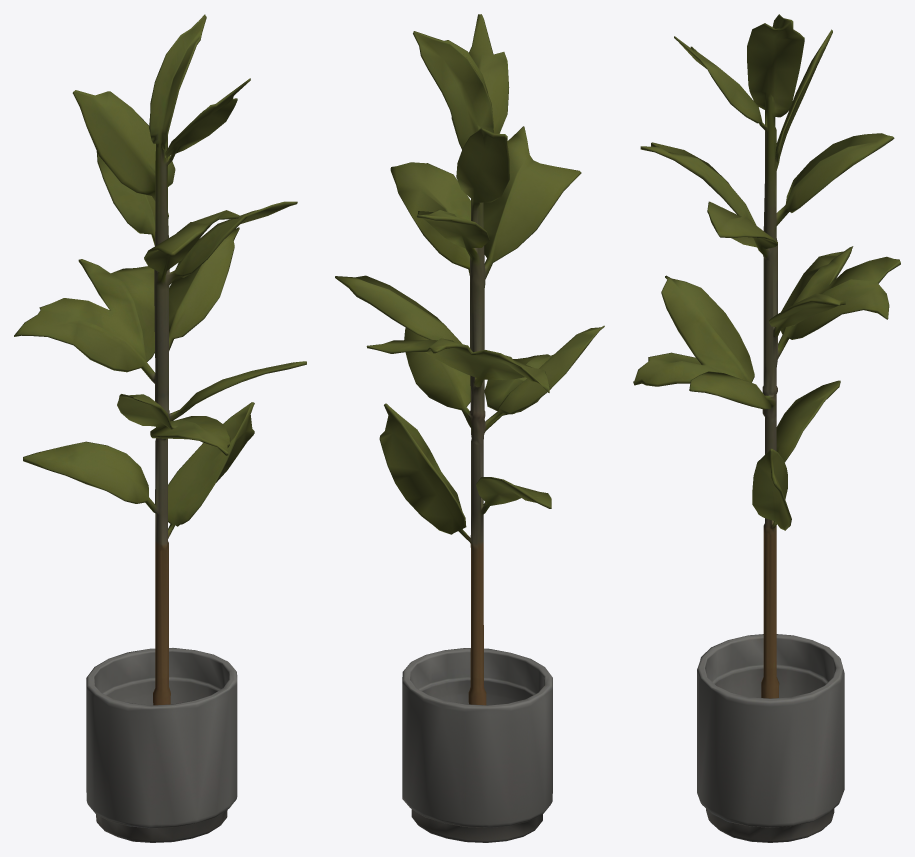
File: plant-v1.glb
3 views of the same model, side by side, from view 1: azimuth 30°, elevation 25°; view 2: azimuth 150°, elevation 25°; view 3: azimuth 270°, elevation 25° (orthographic). The views are drawn at different scales.
Parts seen in each view (by area): view 1: tripo_node_e4940563-2a98-4ff2-b9ed-16b3c3fc4c94; view 2: tripo_node_e4940563-2a98-4ff2-b9ed-16b3c3fc4c94; view 3: tripo_node_e4940563-2a98-4ff2-b9ed-16b3c3fc4c94.
Part boxes in pixels (bbox=[...]): tripo_node_e4940563-2a98-4ff2-b9ed-16b3c3fc4c94: bbox=[14, 14, 306, 842]; tripo_node_e4940563-2a98-4ff2-b9ed-16b3c3fc4c94: bbox=[335, 14, 604, 842]; tripo_node_e4940563-2a98-4ff2-b9ed-16b3c3fc4c94: bbox=[633, 14, 900, 842].
Size of the model in its own units: 0.34 by 1.15 by 0.34.
1 material, 1 textured.
